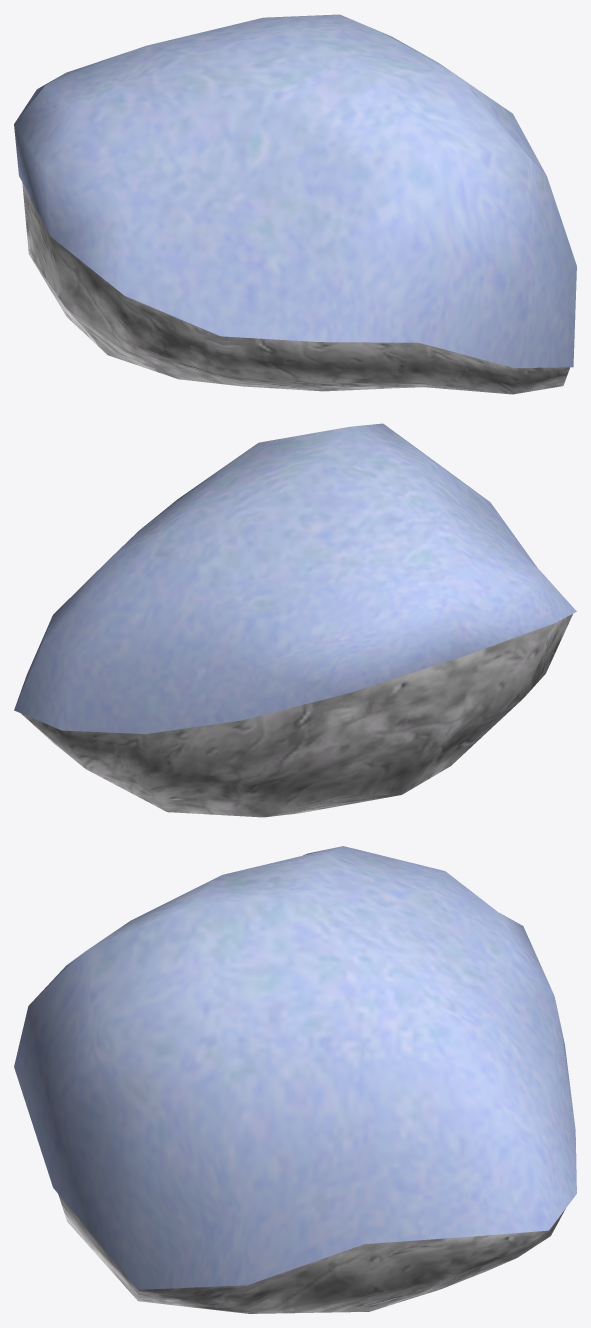
The model's file is INST_SWORDLIGHT_ROCKGLOWC.fbx.
The picture shows the model from 3 angles, top to bottom: view 1: azimuth 30°, elevation 25°; view 2: azimuth 150°, elevation 25°; view 3: azimuth 270°, elevation 25°; orthographic projection. The views are drawn at different scales.
Visible parts, largest first — view 1: INST_SWORDLIGHT_ROCKGLOWC; view 2: INST_SWORDLIGHT_ROCKGLOWC; view 3: INST_SWORDLIGHT_ROCKGLOWC.
Boxes of the visible parts, left/top/right/bottom form: INST_SWORDLIGHT_ROCKGLOWC: left=14, top=14, right=576, bottom=394; INST_SWORDLIGHT_ROCKGLOWC: left=14, top=423, right=576, bottom=817; INST_SWORDLIGHT_ROCKGLOWC: left=14, top=846, right=576, bottom=1313.
Bounding box in the file's own units: 20054 × 13069 × 20054.
Materials: 2 (2 with a texture image).
